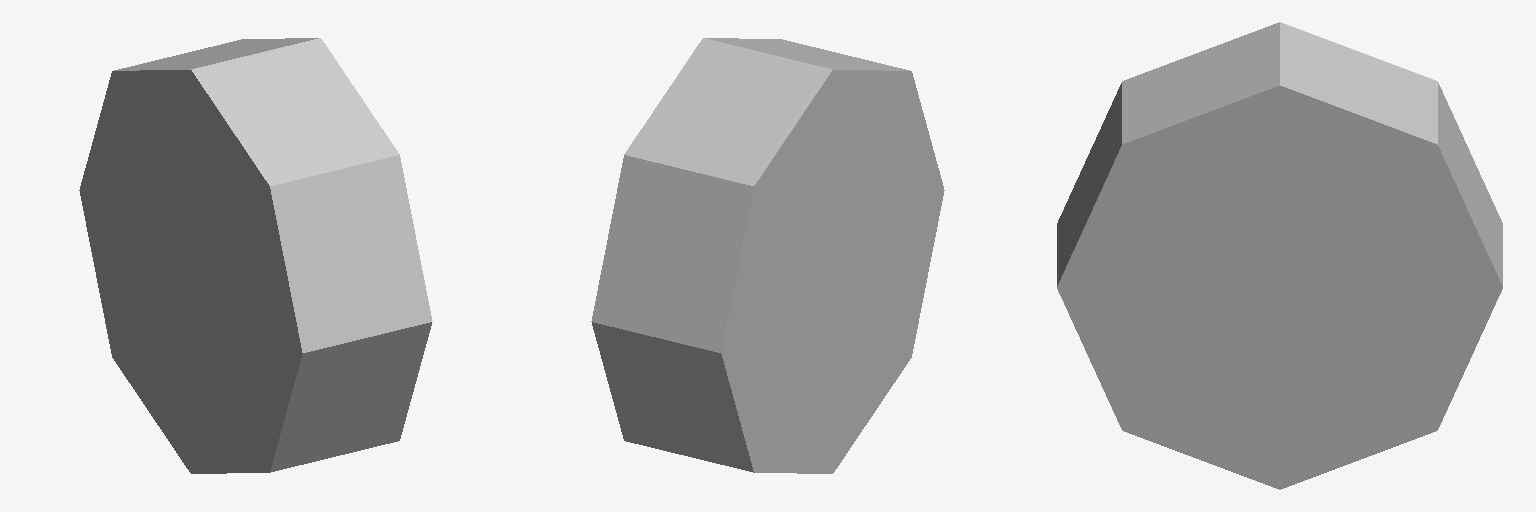
The model's file is M3_wheel_lowpoly.obj.
The picture shows the model from 3 angles: view 1: azimuth 30°, elevation 25°; view 2: azimuth 150°, elevation 25°; view 3: azimuth 270°, elevation 25°; orthographic projection.
Parts seen in each view (by area): view 1: Cylinder_Cylinder.002; view 2: Cylinder_Cylinder.002; view 3: Cylinder_Cylinder.002.
Part boxes in pixels (x1,y1,x2,y2): Cylinder_Cylinder.002: (79, 38, 432, 473); Cylinder_Cylinder.002: (591, 38, 944, 473); Cylinder_Cylinder.002: (1057, 22, 1502, 489).
Size of the model in its own units: 0.2098 by 0.624 by 0.624.